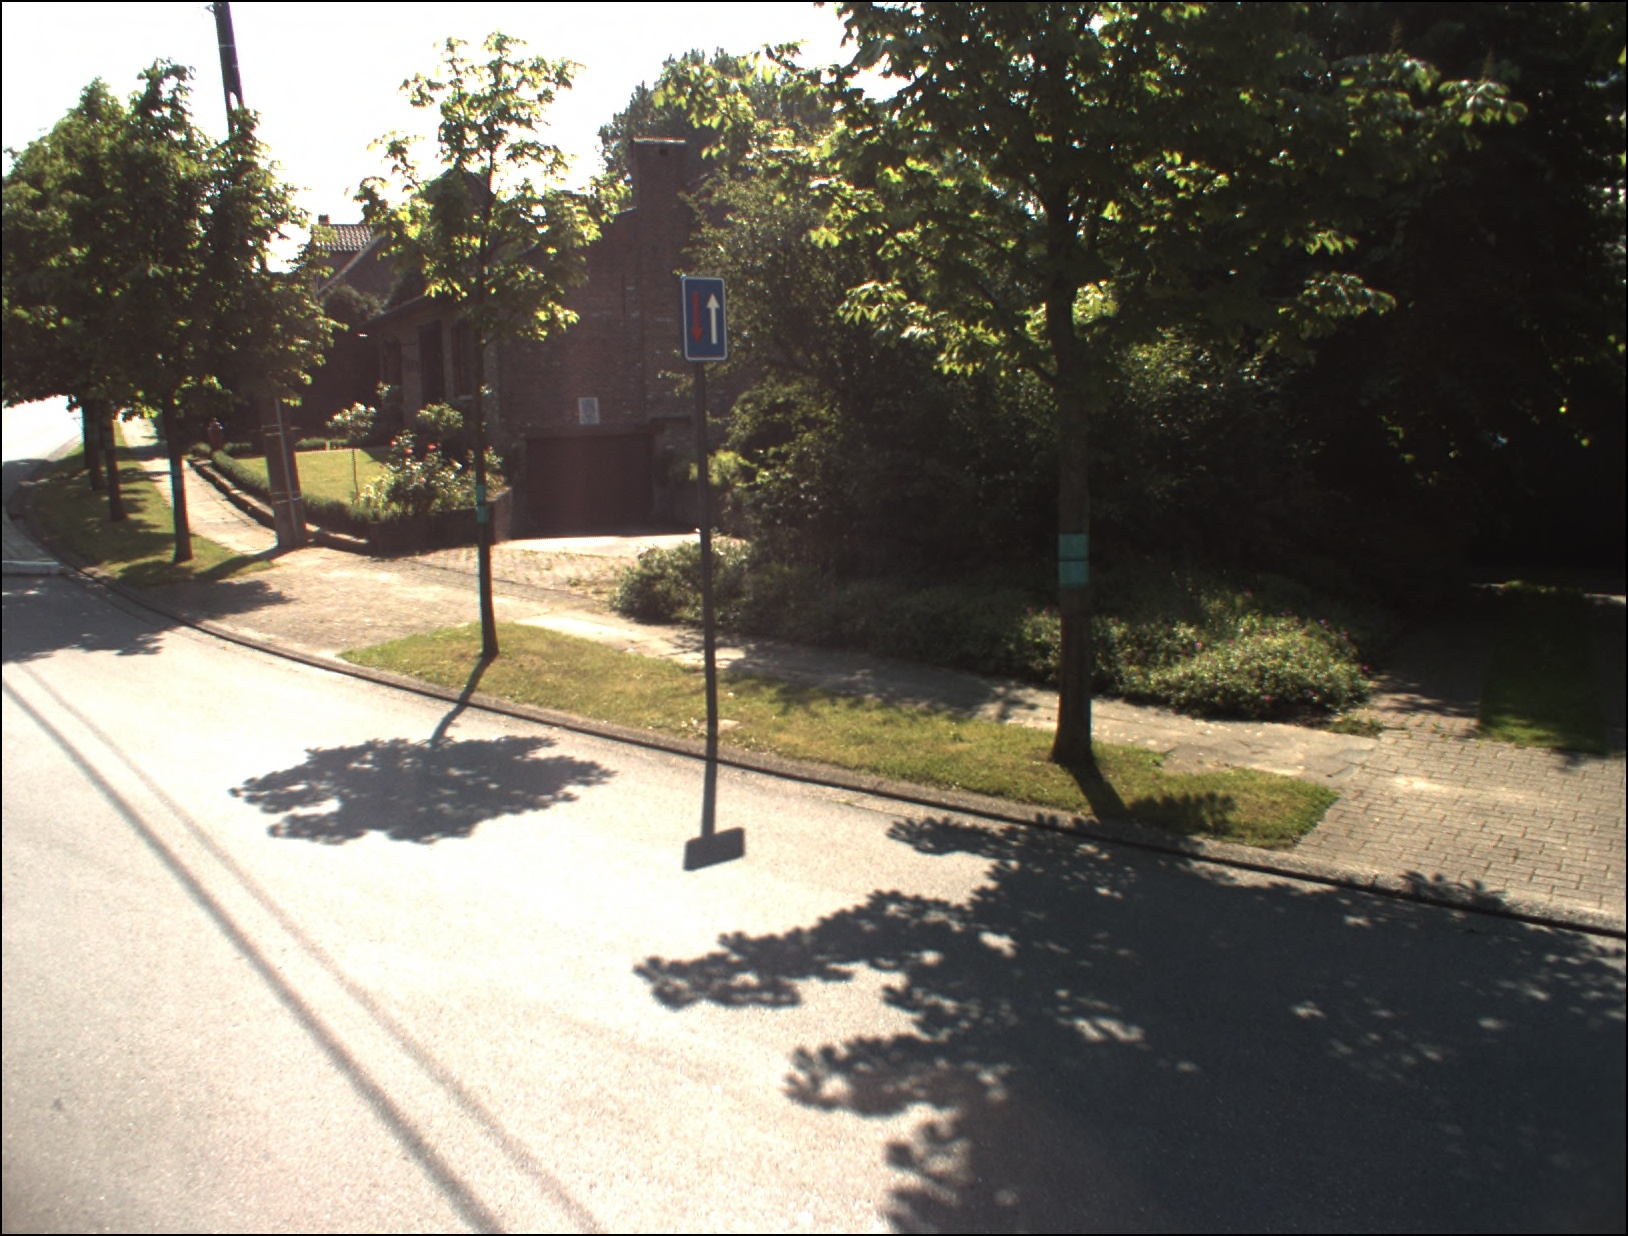roadnarrow1: (676, 273, 735, 366)
